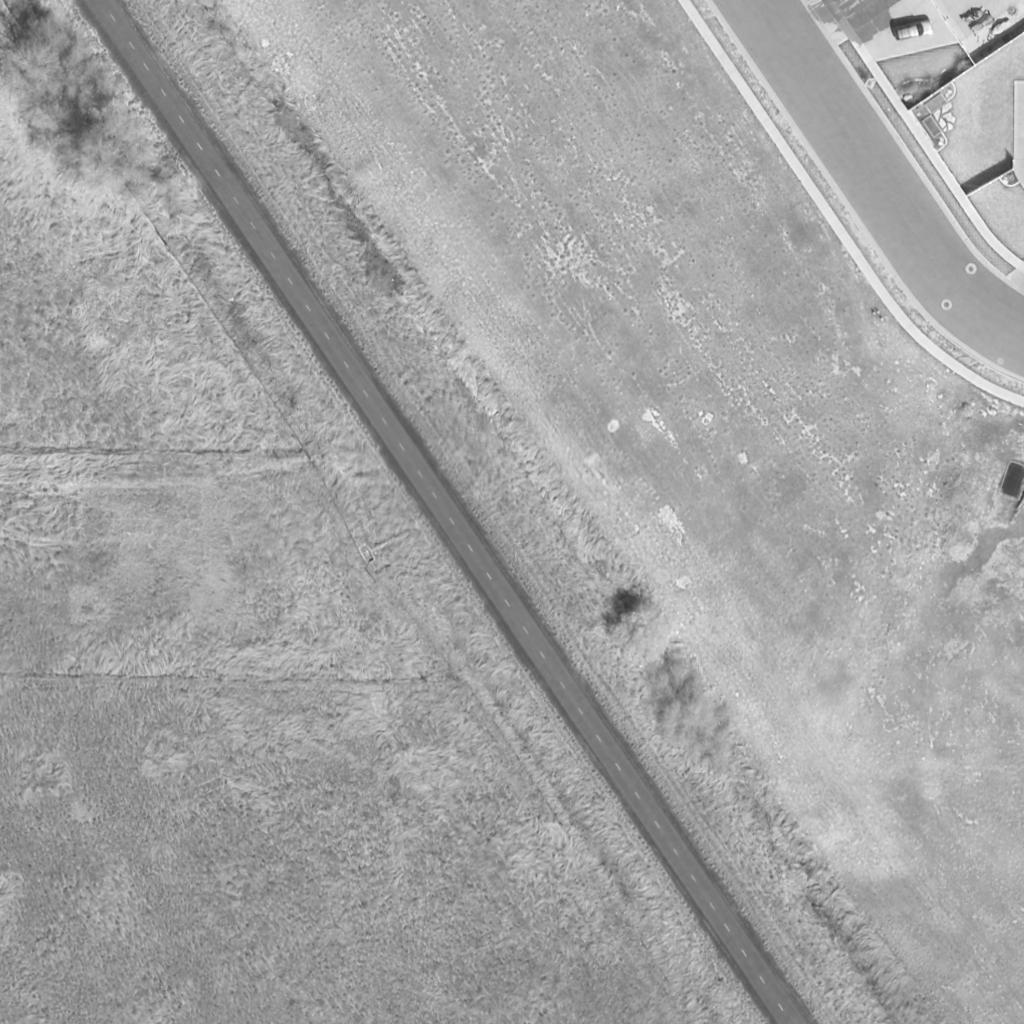vehicle: (894, 20, 936, 42)
